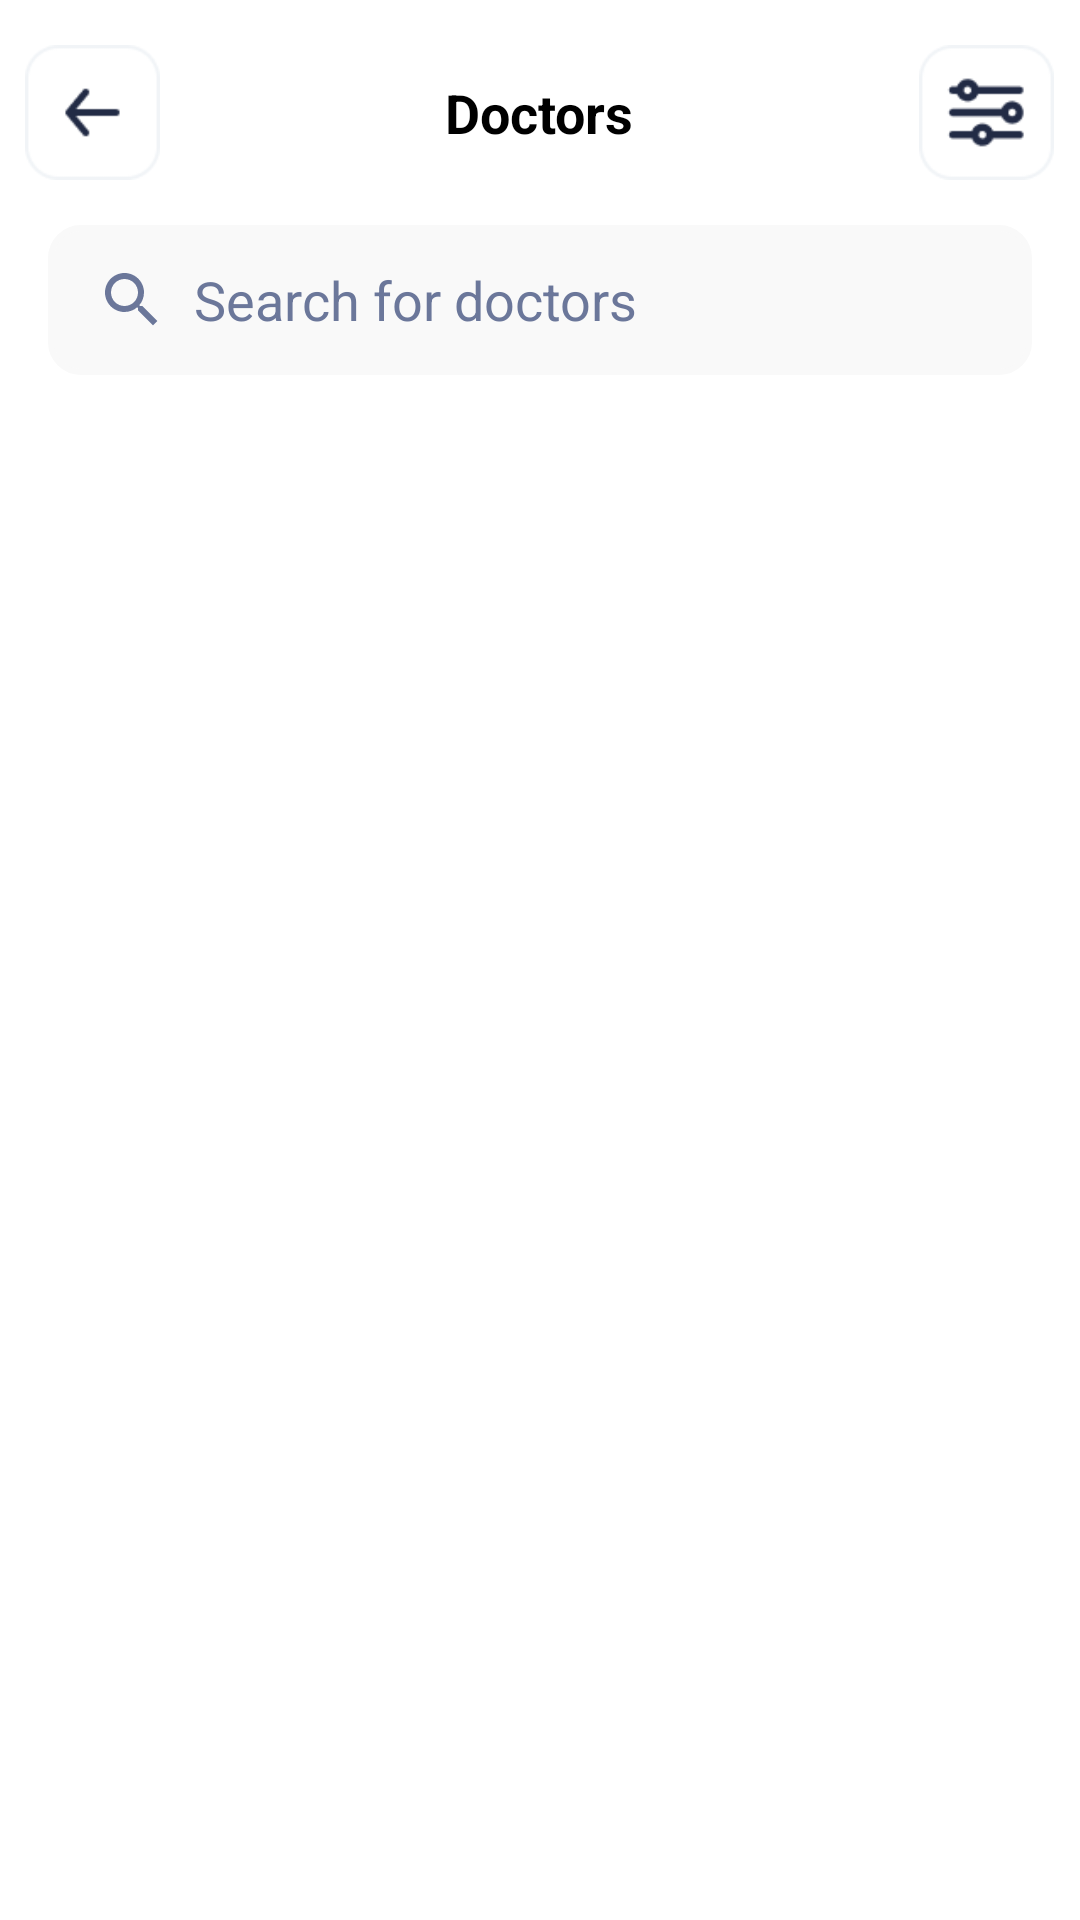

Where to tap for icons on this 1080×1920 app screen, as point (x, y):
back: point (92, 112)
filter: point (986, 112)
